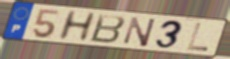3: (153, 19, 188, 51)
5: (32, 8, 62, 40)
B: (88, 13, 128, 45)
H: (55, 9, 99, 42)
L: (186, 22, 210, 53)
N: (123, 16, 159, 48)
